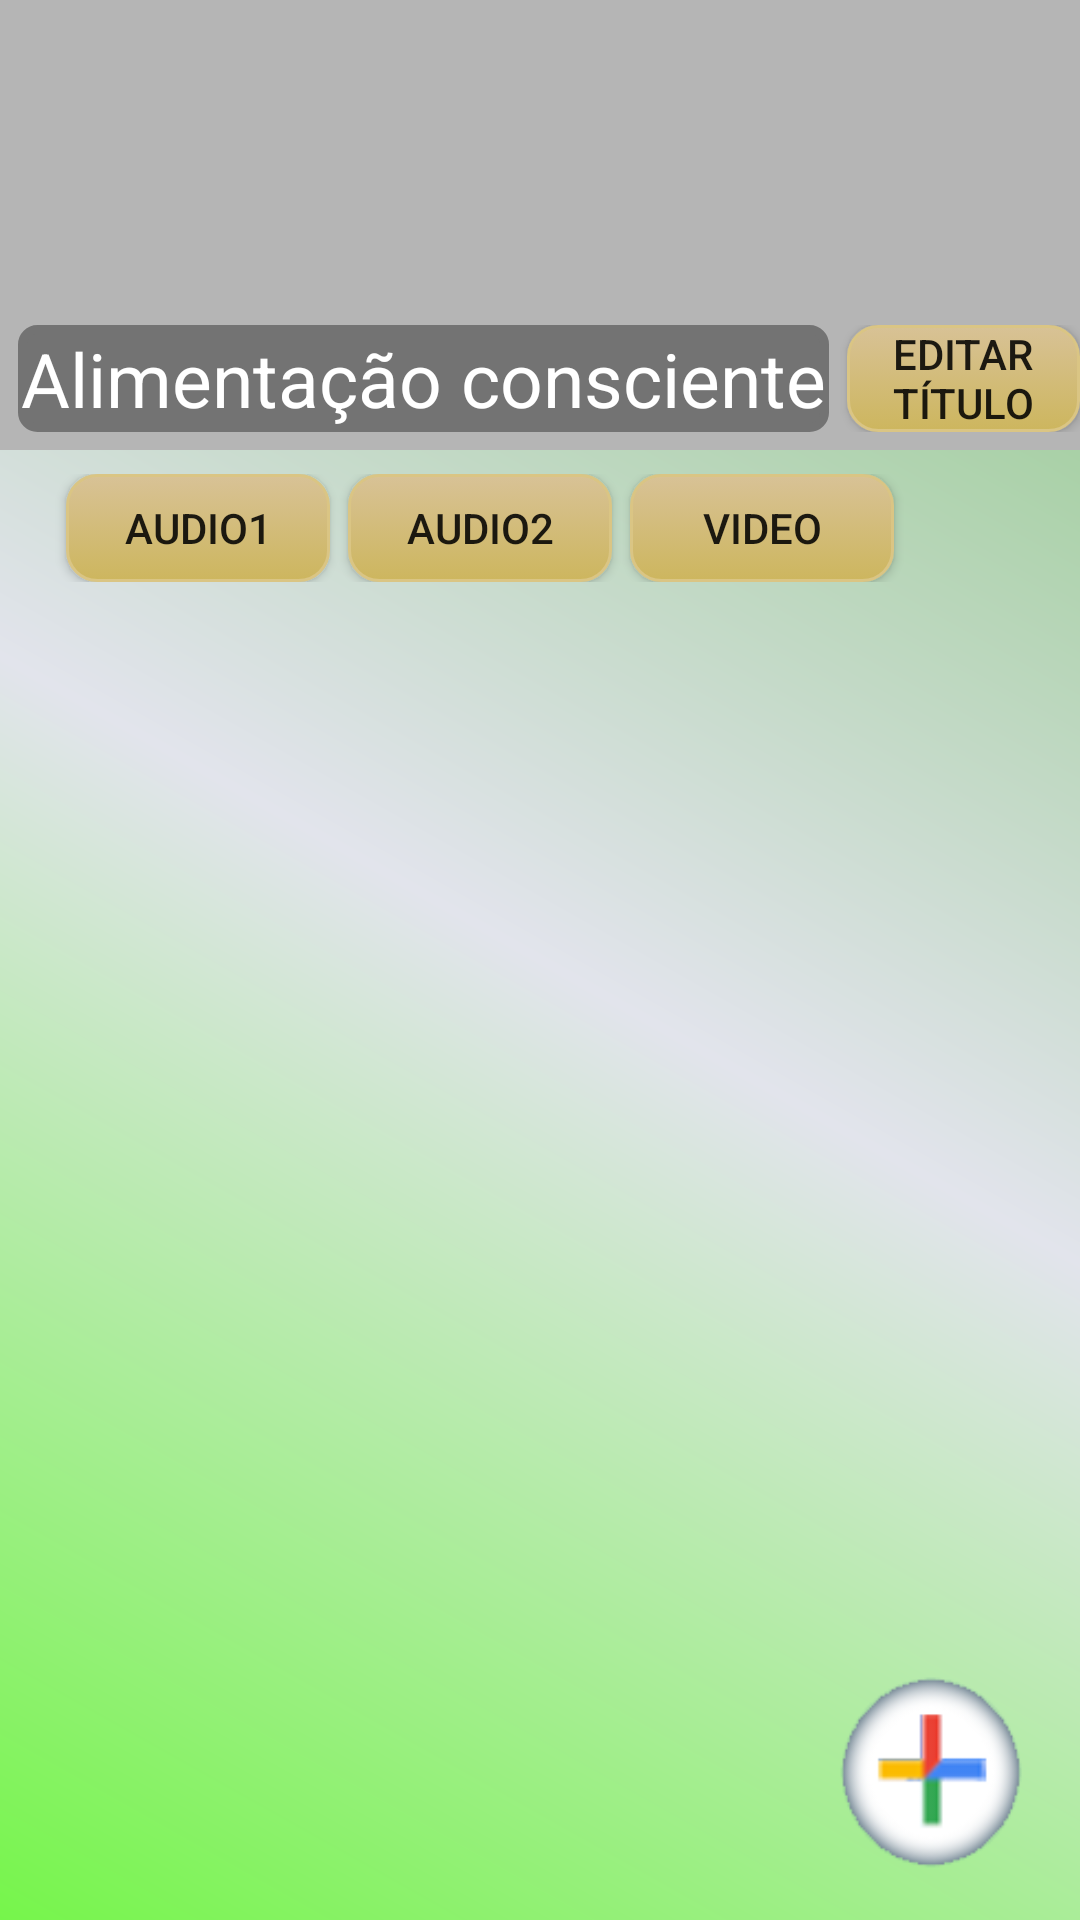

Point at icon controls on the screen. Image size 1080px×1920px, points as (x=x, y=y).
add: (x=930, y=1770)
